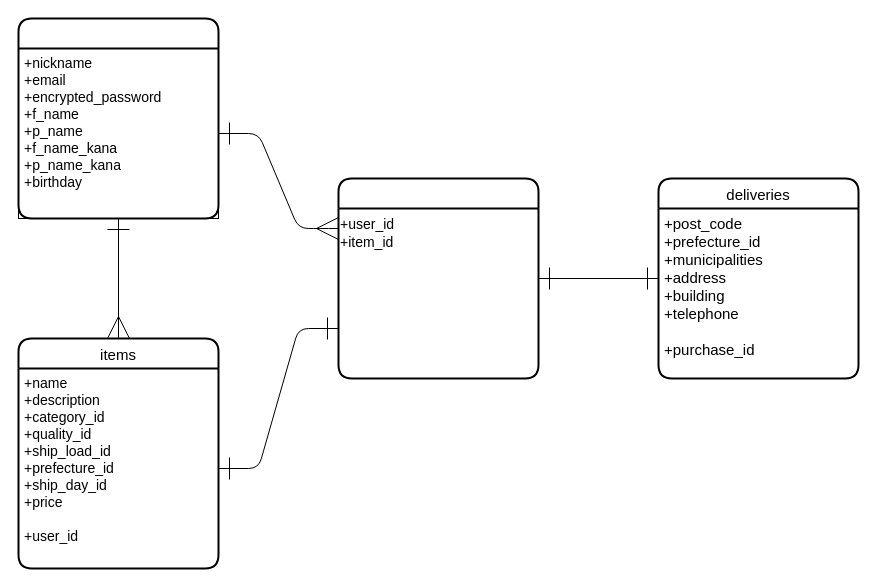
This 876x586 diagram has some shape labels left out. Here are the shapes that lost their labels. From the top down, the box of each, then its label:
(17, 17, 219, 219): users
(337, 177, 539, 379): purchases
